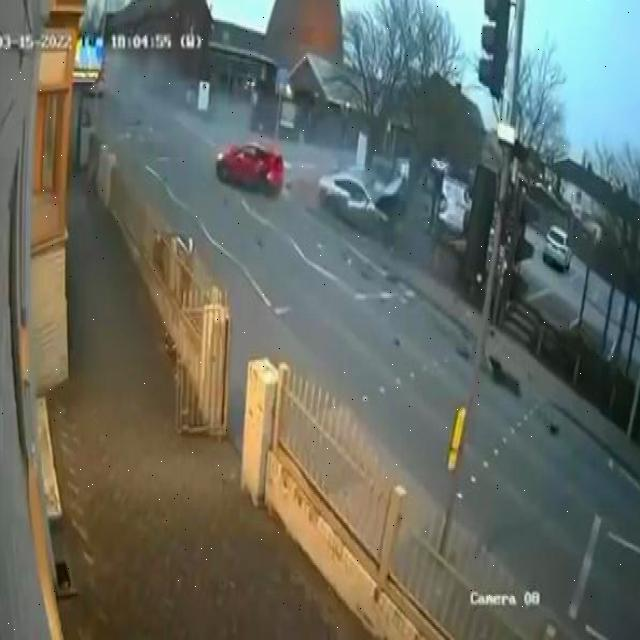accident: (312, 149, 412, 248), (208, 124, 285, 207)
